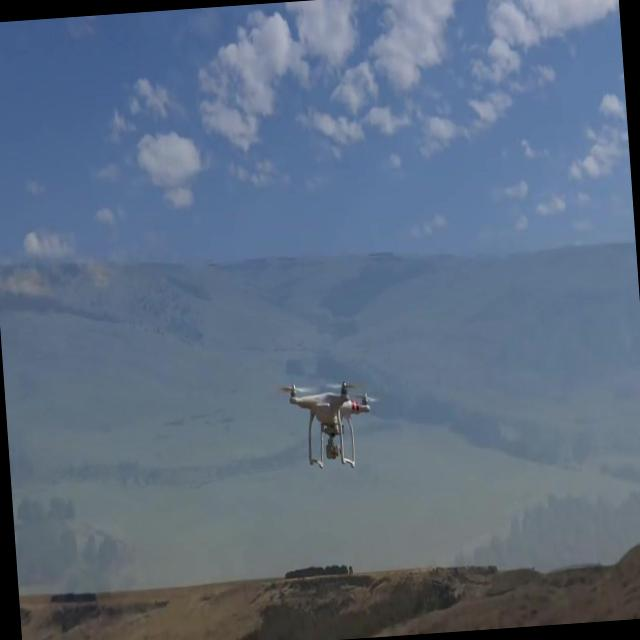drone: (280, 376, 380, 474)
